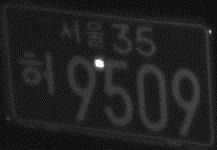0: (134, 62, 170, 130)
3: (109, 20, 133, 57)
5: (102, 58, 134, 127), (132, 23, 156, 57)
9: (170, 67, 202, 136), (66, 54, 97, 124)
서울_O: (59, 18, 106, 49)
허: (17, 50, 56, 97)
